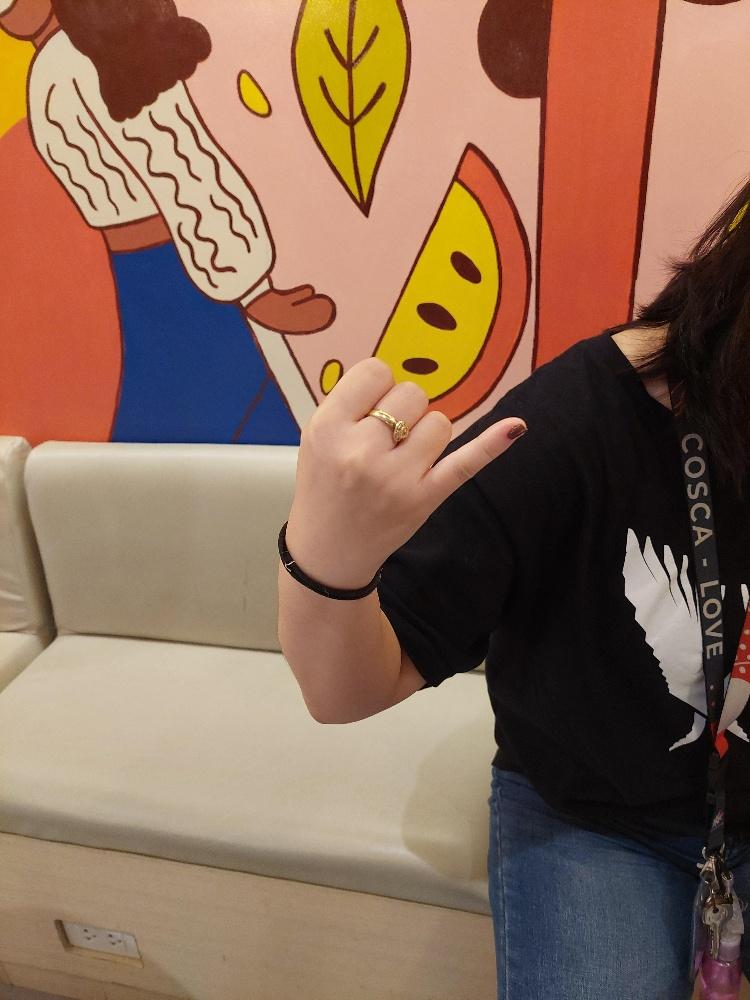j: (284, 351, 529, 571)
